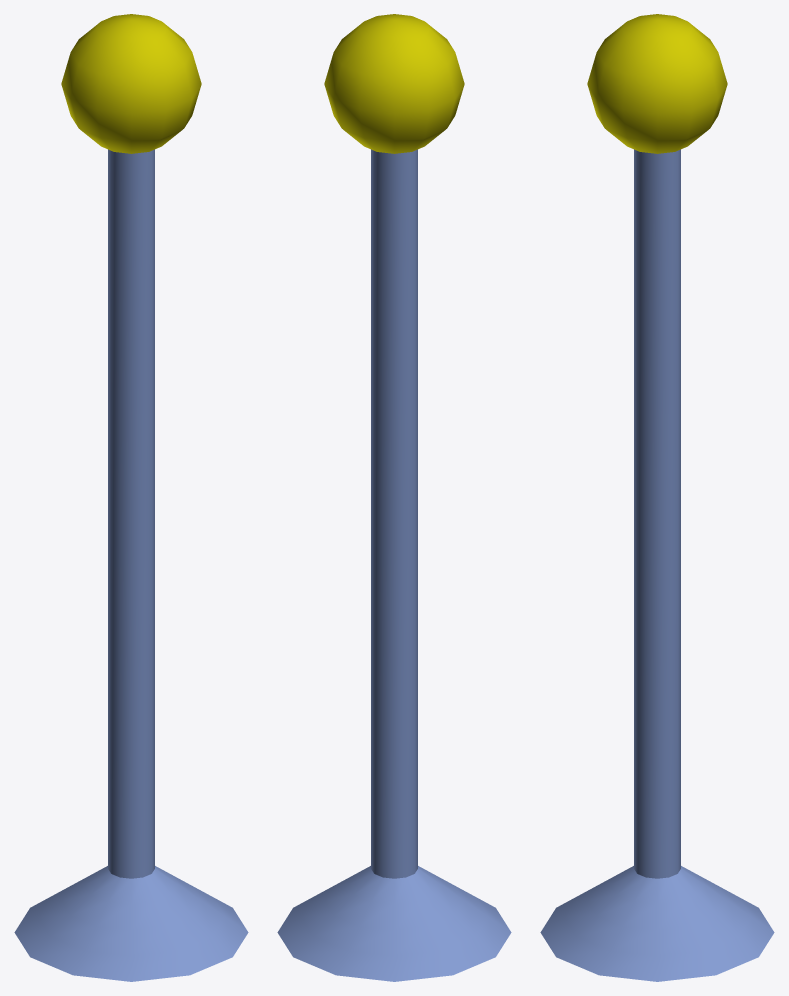
Rendered from Lamp.fbx.
3 views of the same model, side by side, from view 1: azimuth 30°, elevation 25°; view 2: azimuth 150°, elevation 25°; view 3: azimuth 270°, elevation 25° (orthographic).
Visible parts, largest first — view 1: Lamp; view 2: Lamp; view 3: Lamp.
Part boxes in pixels (left/top/right/bottom): Lamp: left=14, top=14, right=248, bottom=981; Lamp: left=277, top=14, right=511, bottom=981; Lamp: left=540, top=14, right=774, bottom=981.
Bounding box in the file's own units: 50 × 215 × 50.
